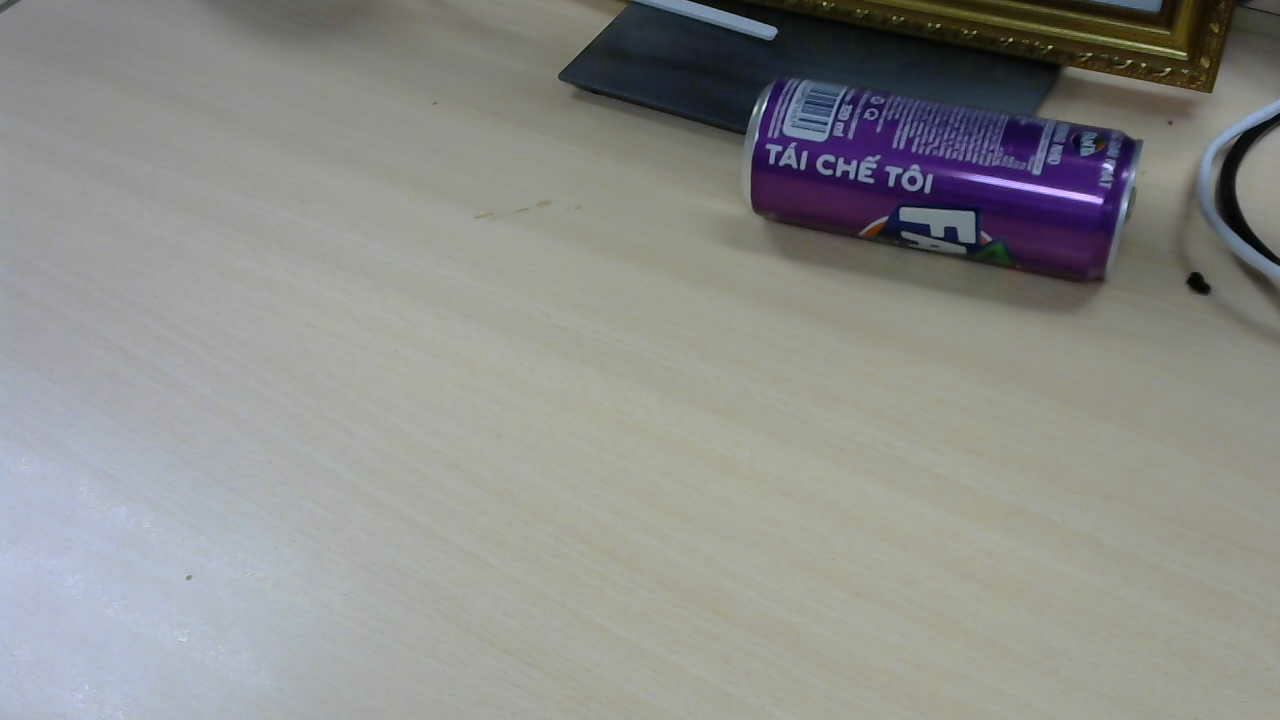Fanta: (743, 75, 1148, 290)
